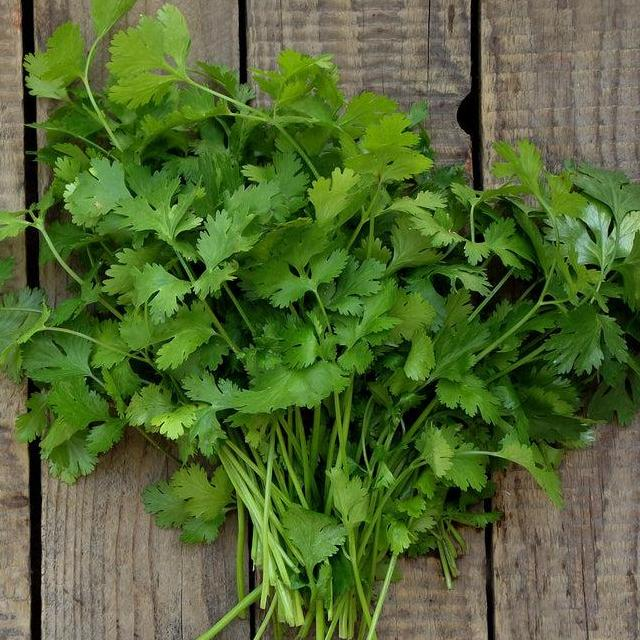cilantro: (64, 114, 634, 456)
